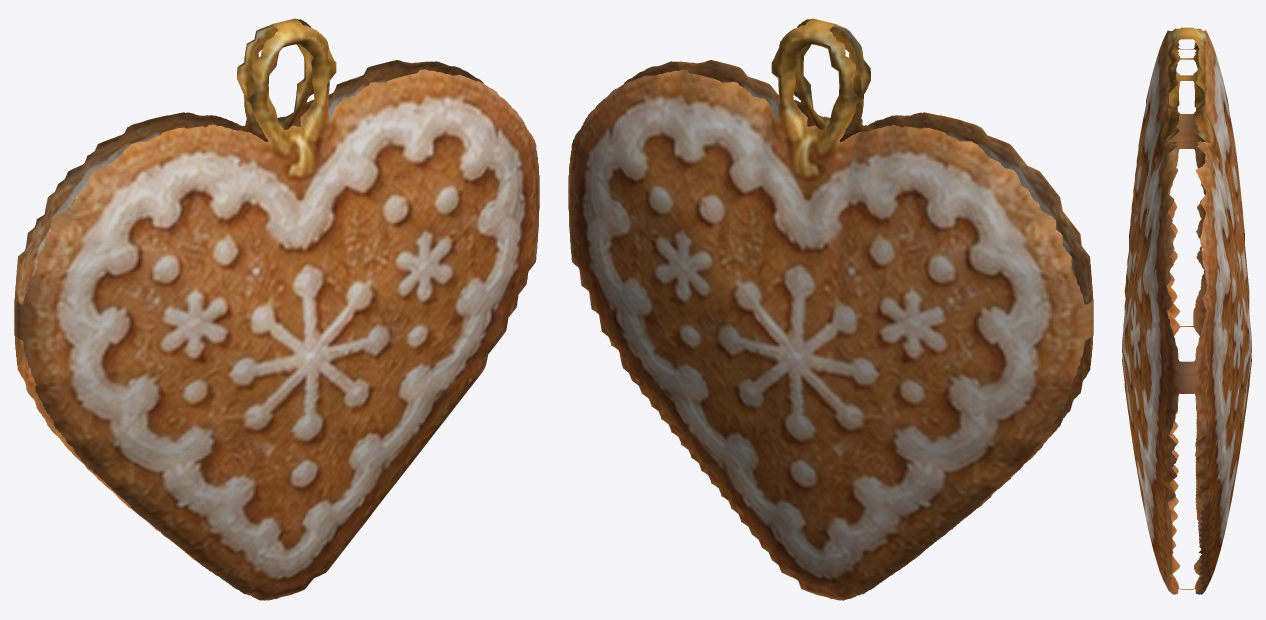
File: Item_heart.glb
3 views of the same model, side by side, from view 1: azimuth 30°, elevation 25°; view 2: azimuth 150°, elevation 25°; view 3: azimuth 270°, elevation 25° (orthographic).
Visible parts, largest first — view 1: Item_heart carving; view 2: Item_heart carving; view 3: Item_heart carving.
Part boxes in pixels (x1,y1,x2,y2): Item_heart carving: [14, 18, 539, 600]; Item_heart carving: [568, 18, 1093, 600]; Item_heart carving: [1122, 27, 1251, 594].
Bounding box in the file's own units: 0.282 × 0.2961 × 0.062.
Materials: 1 (1 with a texture image).
